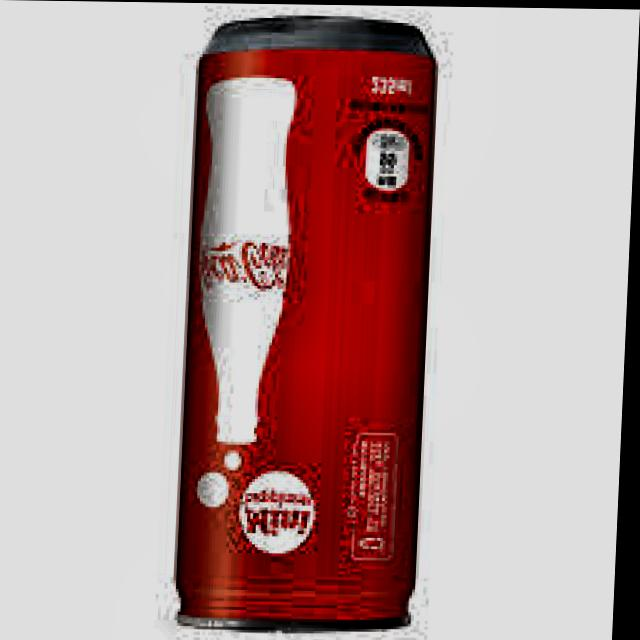can: (172, 2, 453, 640)
